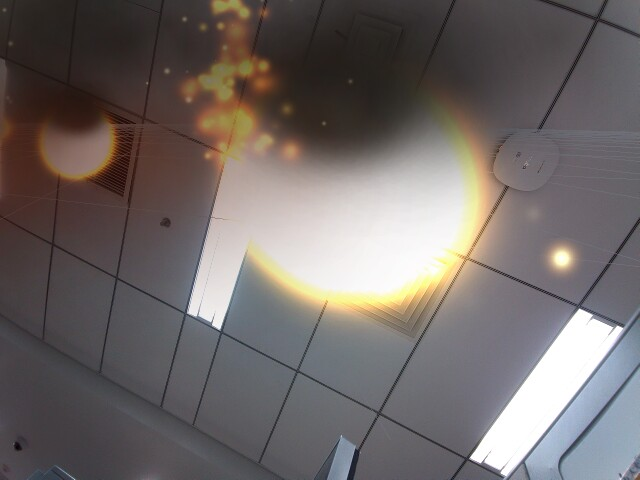fire: (234, 52, 490, 318), (38, 98, 118, 180)
